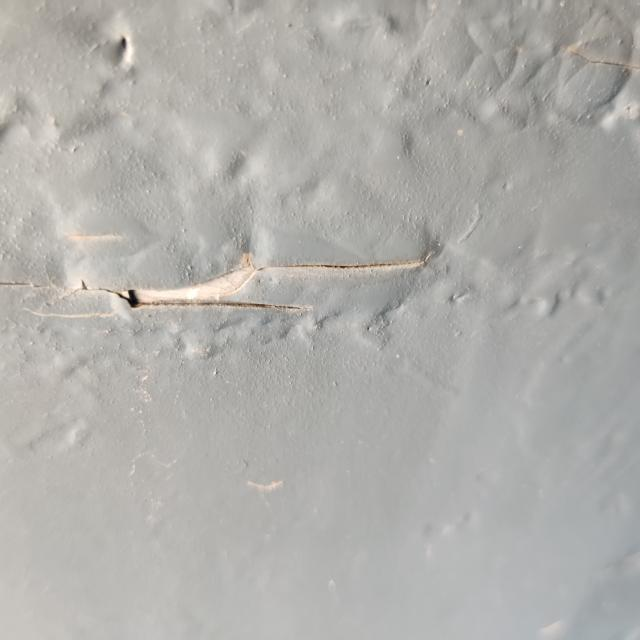crack: (59, 236, 448, 335)
